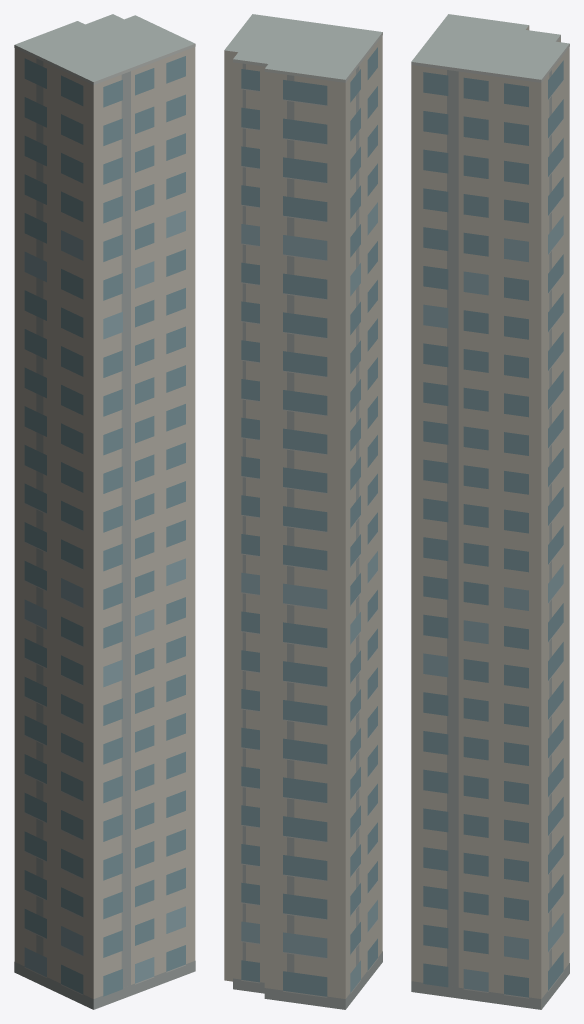
File: survey-upis-32630452.glb
The picture shows the model from 3 angles, left to right: view 1: azimuth 30°, elevation 25°; view 2: azimuth 150°, elevation 25°; view 3: azimuth 330°, elevation 25°; orthographic projection.
Visible parts, largest first — view 1: survey-upis-32630452.tmp; view 2: survey-upis-32630452.tmp; view 3: survey-upis-32630452.tmp.
Part boxes in pixels (x1,y1,x2,y2): survey-upis-32630452.tmp: (14,14,195,1009); survey-upis-32630452.tmp: (224,14,382,1009); survey-upis-32630452.tmp: (411,14,569,1009).
Size of the model in its own units: 11.31 by 73.2 by 9.58.
